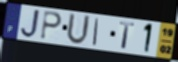1: (141, 23, 154, 56)
I: (92, 17, 100, 47)
J: (20, 8, 42, 39)
P: (39, 10, 63, 41)
T: (119, 21, 137, 51)
U: (65, 12, 92, 46)
